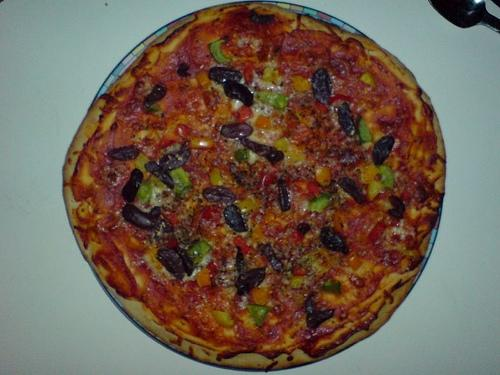bell pepper: (170, 166, 194, 198), (256, 92, 288, 110), (188, 240, 211, 264), (210, 40, 232, 62), (308, 192, 330, 214), (234, 195, 260, 213), (357, 114, 373, 142), (248, 304, 268, 326), (231, 105, 254, 124), (161, 208, 179, 232), (211, 310, 235, 328), (369, 220, 386, 245), (136, 179, 152, 205), (378, 165, 394, 189), (232, 236, 249, 257), (330, 93, 354, 106), (254, 170, 268, 190), (288, 229, 304, 246), (360, 71, 376, 88), (135, 153, 150, 171), (322, 279, 342, 292), (174, 123, 191, 138), (160, 143, 182, 154), (210, 169, 224, 186), (233, 148, 248, 162), (290, 276, 304, 289), (243, 66, 253, 84), (204, 208, 219, 220), (316, 100, 328, 112), (294, 268, 307, 276)
